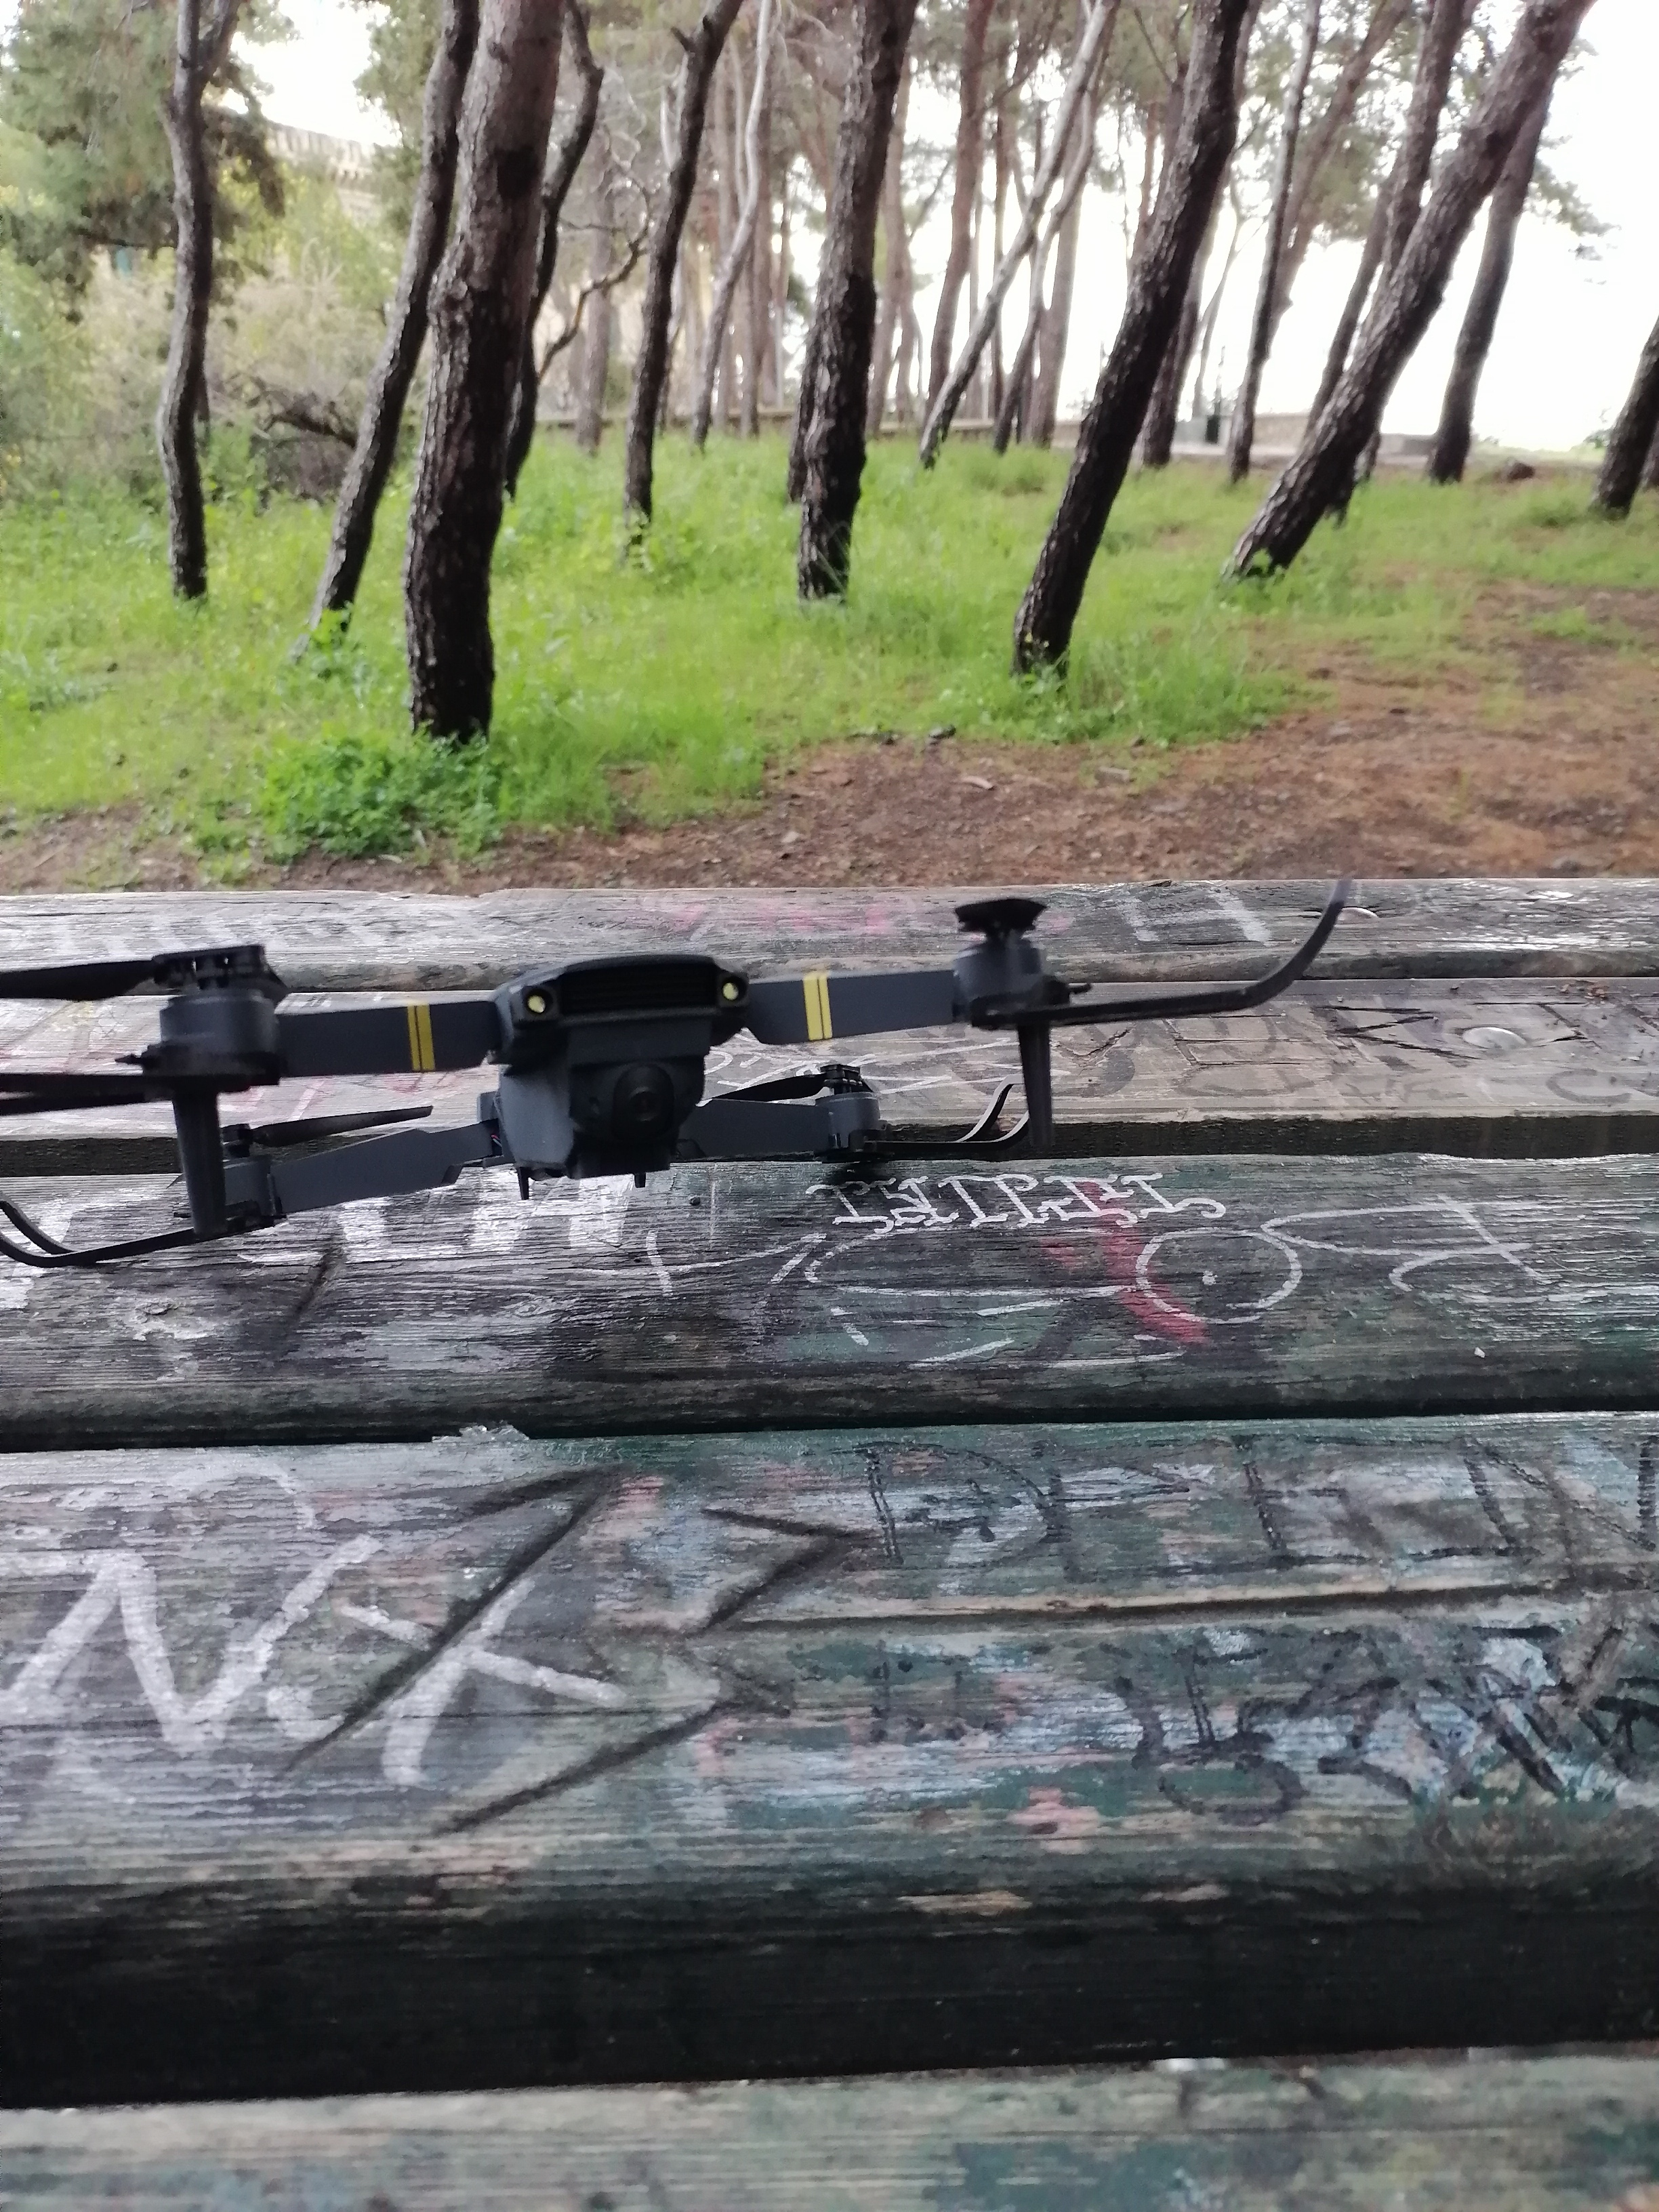drone: (0, 941, 1319, 1282)
